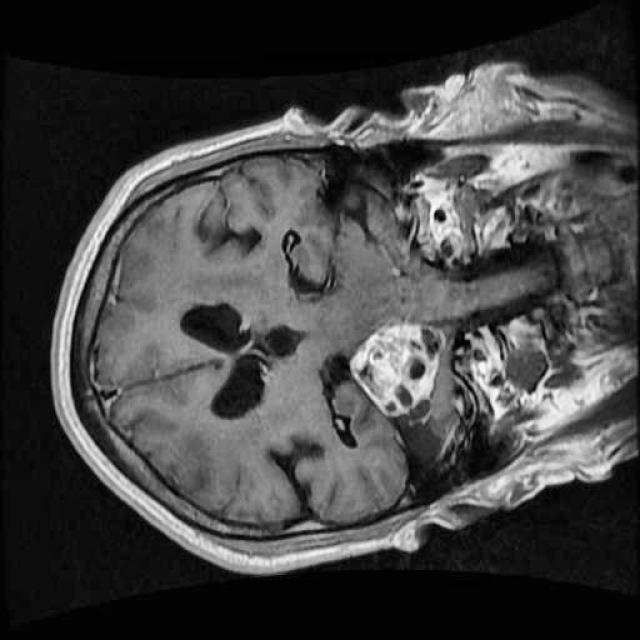Tumor: (332, 310, 462, 438)
